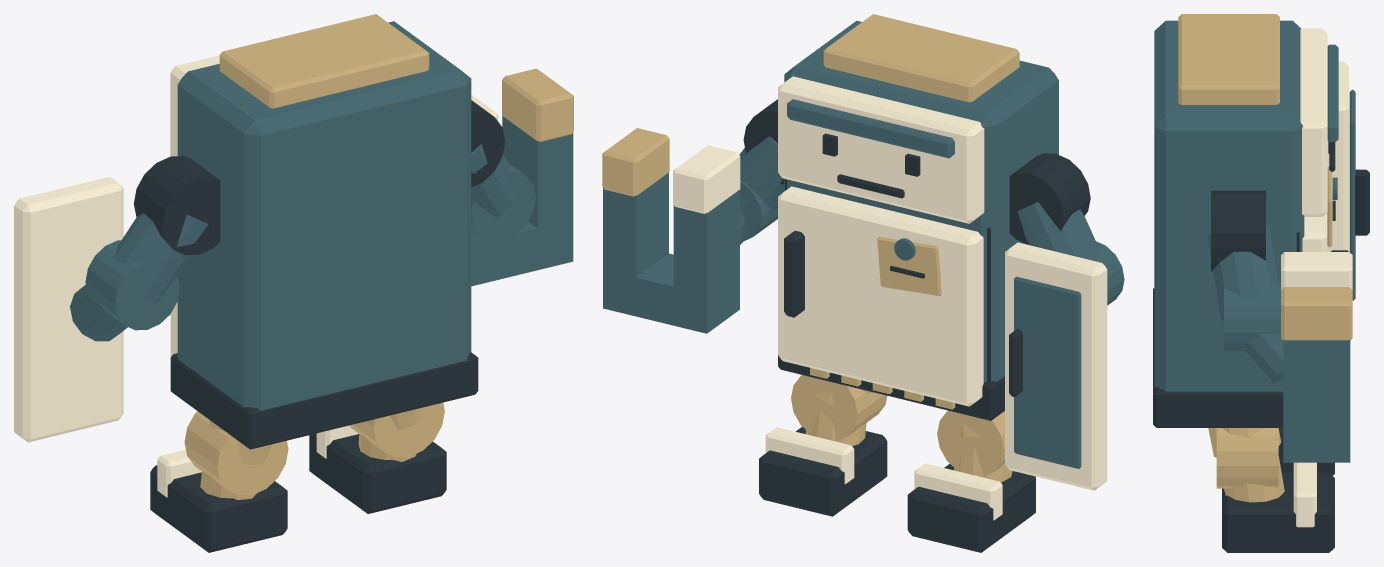
3 renders of one model, left to right at view 1: azimuth 30°, elevation 25°; view 2: azimuth 150°, elevation 25°; view 3: azimuth 270°, elevation 25°, orthographic. The views are drawn at different scales.
Visible parts, largest first — view 1: refrigerator_casing, pantry_shield, top_ice_tray, lower_compressor_base, horseshoe_magnet, L_shoe, R_shoe, L_shoulder_pin, L_kneecap, L_elbow_pin, magnet_south, L_upper_arm (+7 smaller); view 2: pantry_door, freezer_face, horseshoe_magnet, refrigerator_casing, pantry_shield_inset, pantry_shield, top_ice_tray, R_shoe, L_shoe, L_shoulder_pin, heavy_freezer_brow, R_kneecap (+18 smaller); view 3: refrigerator_casing, top_ice_tray, horseshoe_magnet, R_shoe, lower_compressor_base, freezer_face, magnet_south, R_shoulder_pin, R_kneecap, R_elbow_pin, R_upper_arm, pantry_shield (+11 smaller).
Part boxes in pixels (x1,y1,x2,y2): refrigerator_casing: (177,21,471,410); pantry_shield: (14,176,123,442); top_ice_tray: (219,14,429,108); lower_compressor_base: (170,352,478,449); horseshoe_magnet: (471,116,573,286); L_shoe: (150,465,287,552); R_shoe: (309,433,446,513); L_shoulder_pin: (134,156,220,255); L_kneecap: (184,411,288,495); L_elbow_pin: (85,240,179,330); magnet_south: (502,68,573,141); L_upper_arm: (114,213,208,303); pantry_door: (778,186,983,406); freezer_face: (778,76,984,223); horseshoe_magnet: (603,172,739,333); refrigerator_casing: (784,20,1058,382); pantry_shield_inset: (1014,276,1081,468); pantry_shield: (1005,242,1107,490); top_ice_tray: (823,14,1019,102); R_shoe: (759,427,887,516); L_shoe: (907,464,1035,552); L_shoulder_pin: (1009,153,1090,244); heavy_freezer_brow: (787,99,954,158); R_kneecap: (791,375,887,441); refrigerator_casing: (1154,20,1304,391); top_ice_tray: (1178,14,1279,104); horseshoe_magnet: (1283,339,1350,462); R_shoe: (1222,473,1334,552); lower_compressor_base: (1153,288,1283,427); freezer_face: (1300,28,1327,216); magnet_south: (1281,287,1352,340); R_shoulder_pin: (1211,190,1265,271); R_kneecap: (1216,428,1278,488); R_elbow_pin: (1224,282,1280,352); R_upper_arm: (1207,225,1280,323); pantry_shield: (1327,61,1348,251).
Size of the model in its own units: 2.52 by 2.15 by 0.94.
